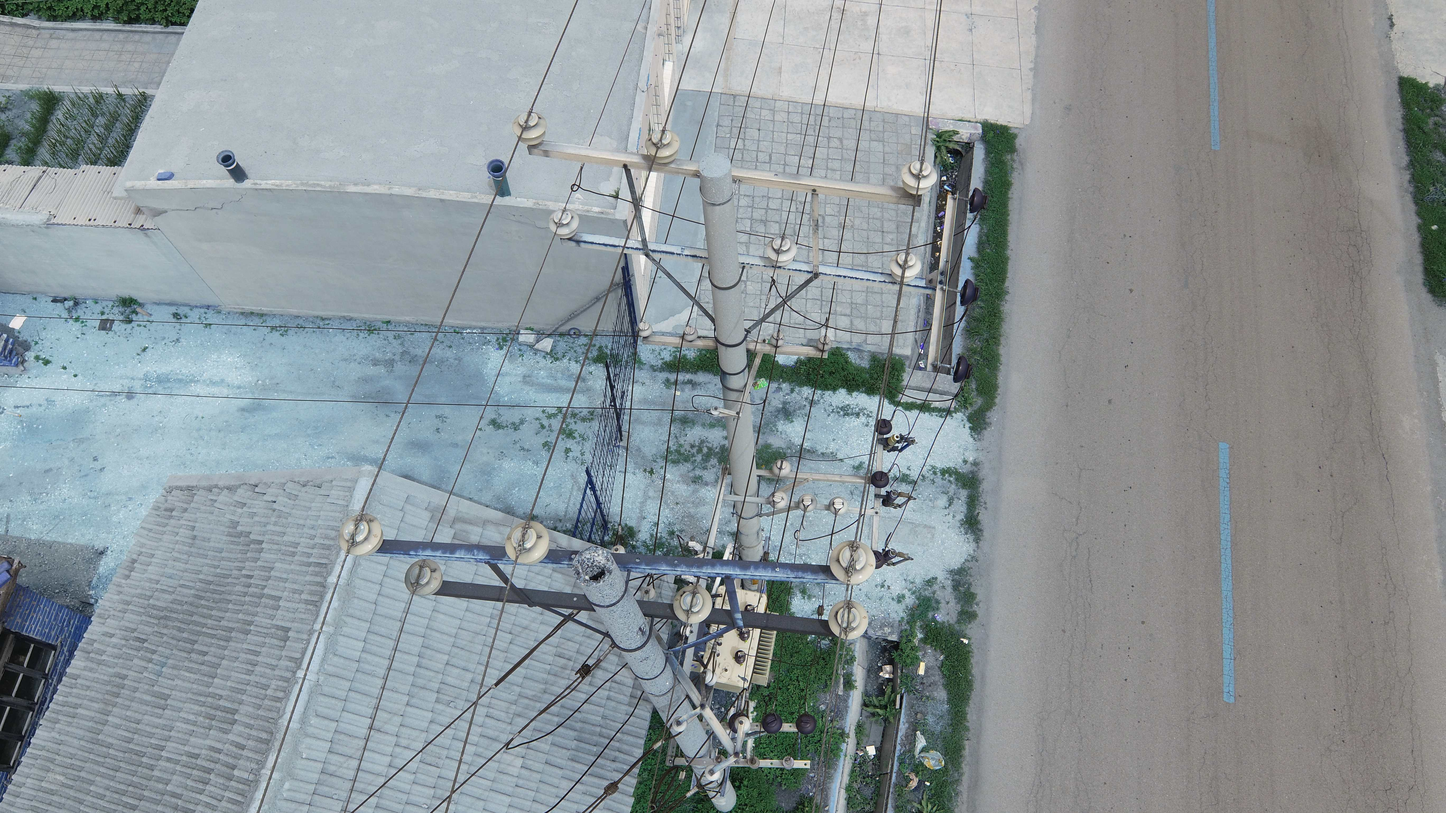severe_soiling_no_discharge_whole: (767, 490, 789, 511)
